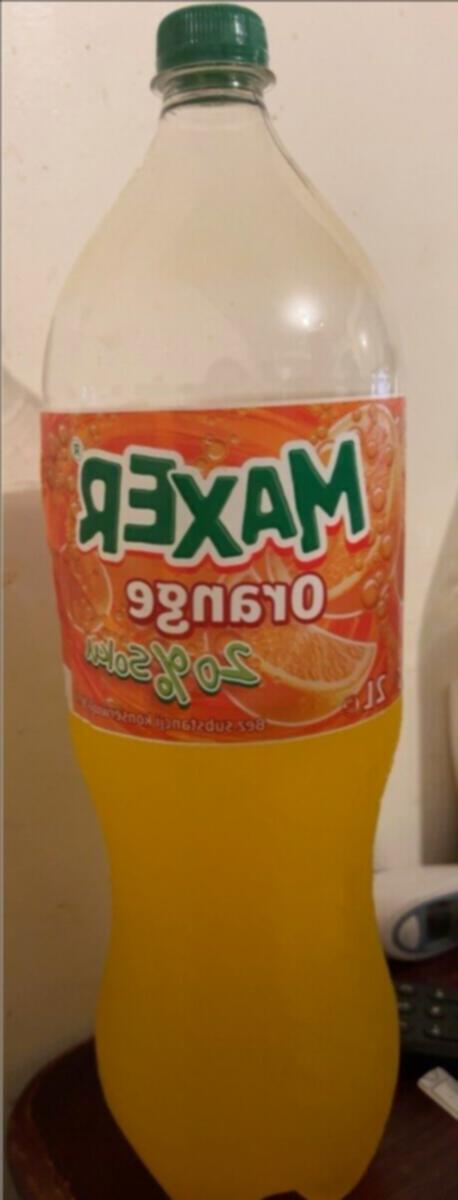PET: (39, 1, 407, 1198)
juice: (39, 1, 407, 1198)
maxer: (39, 1, 407, 1198)
plastic: (39, 1, 407, 1198)
